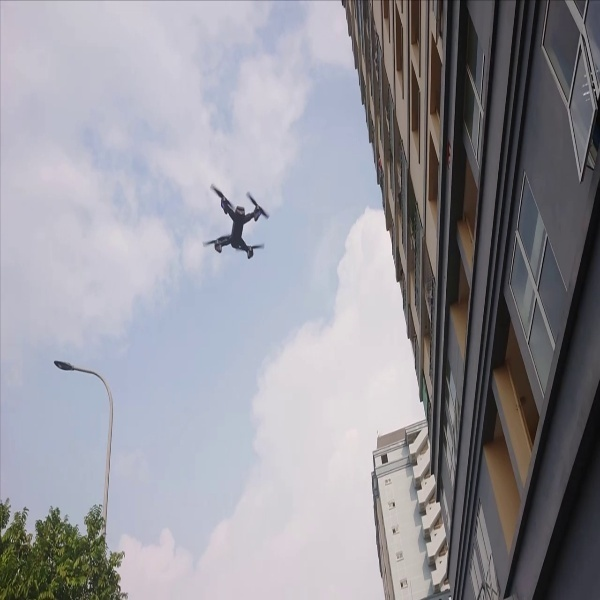drone: (193, 180, 274, 265)
